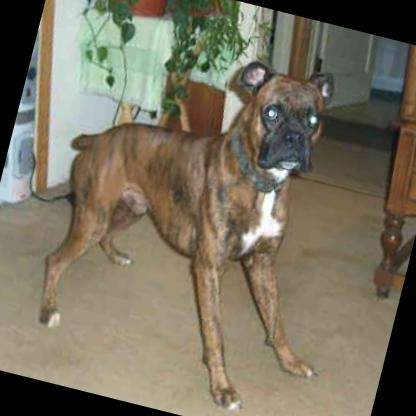boxer: (2, 0, 392, 416)
